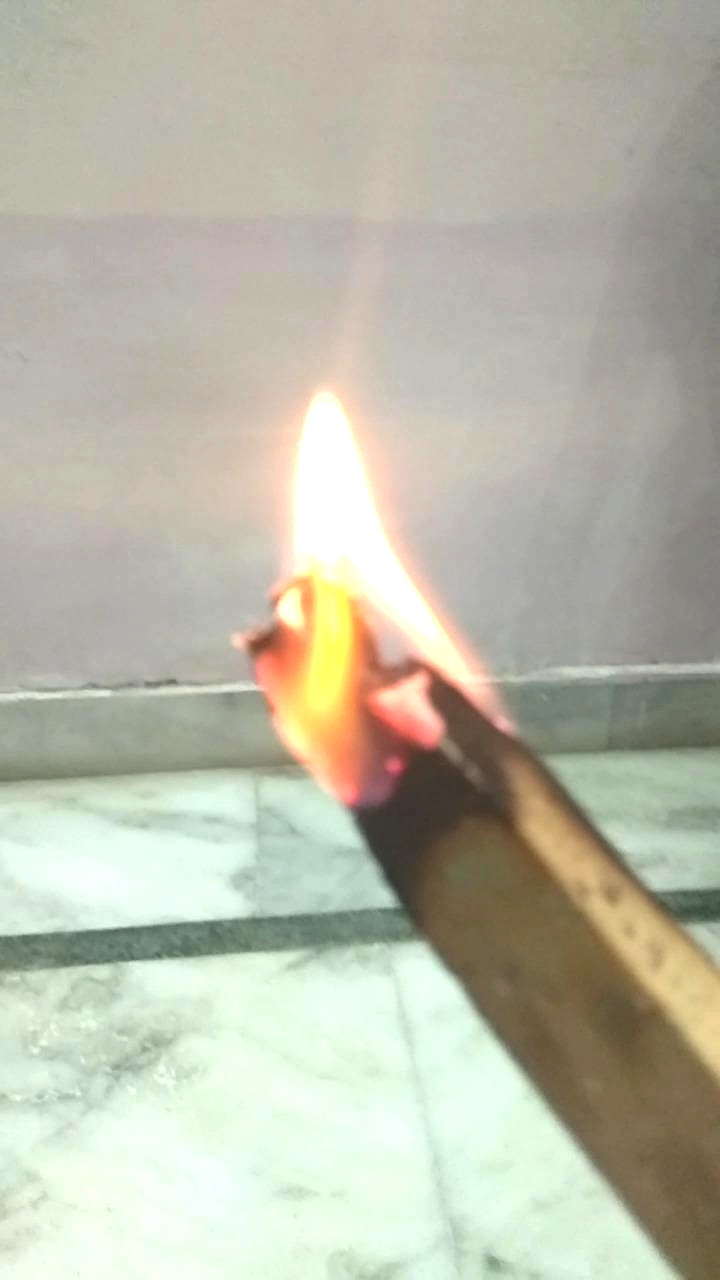fire: (242, 361, 433, 744)
